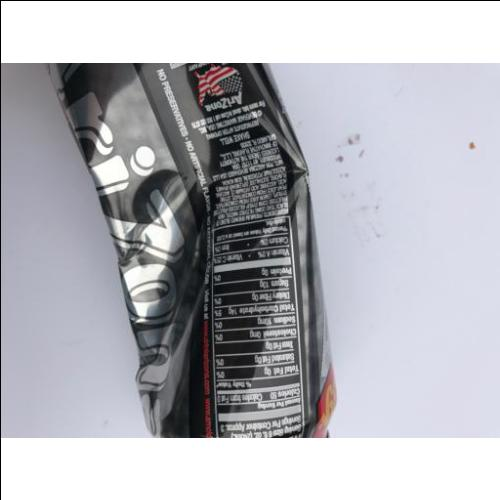metal: (50, 62, 337, 437)
